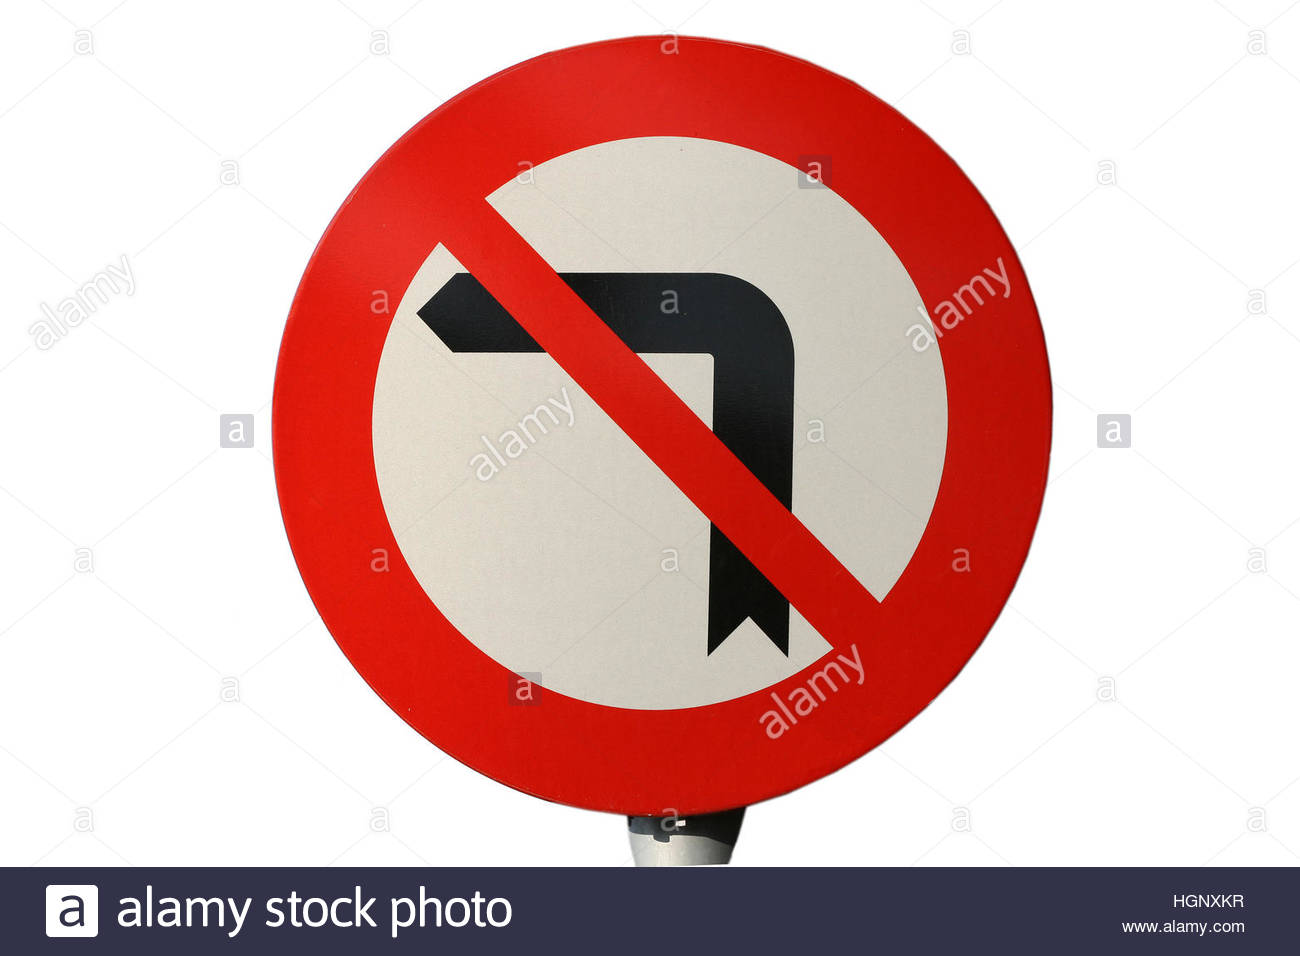No_left_turn: (266, 36, 1053, 816)
